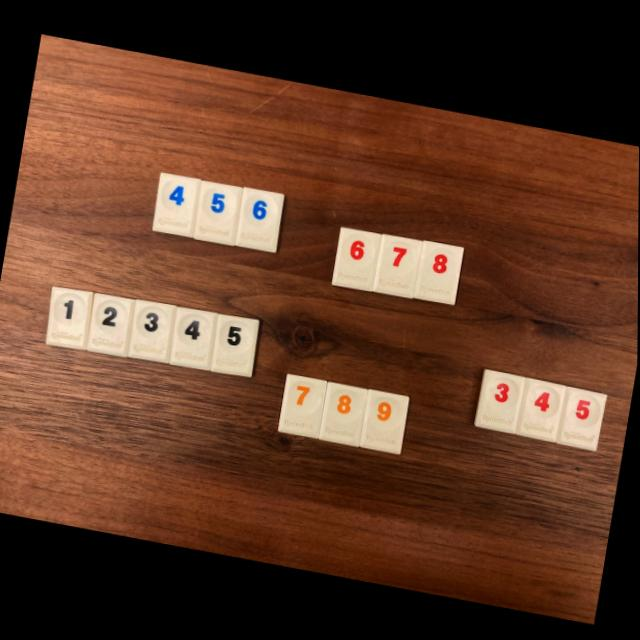black_1: (46, 286, 94, 350)
black_2: (87, 292, 136, 356)
black_3: (129, 299, 177, 362)
black_4: (170, 306, 219, 369)
black_5: (211, 313, 260, 376)
blue_4: (153, 171, 202, 236)
blue_5: (194, 180, 243, 245)
blue_6: (235, 186, 285, 251)
orange_7: (279, 372, 328, 436)
orange_8: (319, 380, 369, 445)
orange_9: (360, 387, 410, 453)
red_3: (474, 367, 526, 430)
red_4: (517, 376, 567, 439)
red_5: (556, 383, 607, 447)
red_6: (332, 225, 382, 289)
red_7: (373, 232, 423, 296)
red_8: (414, 238, 465, 303)
